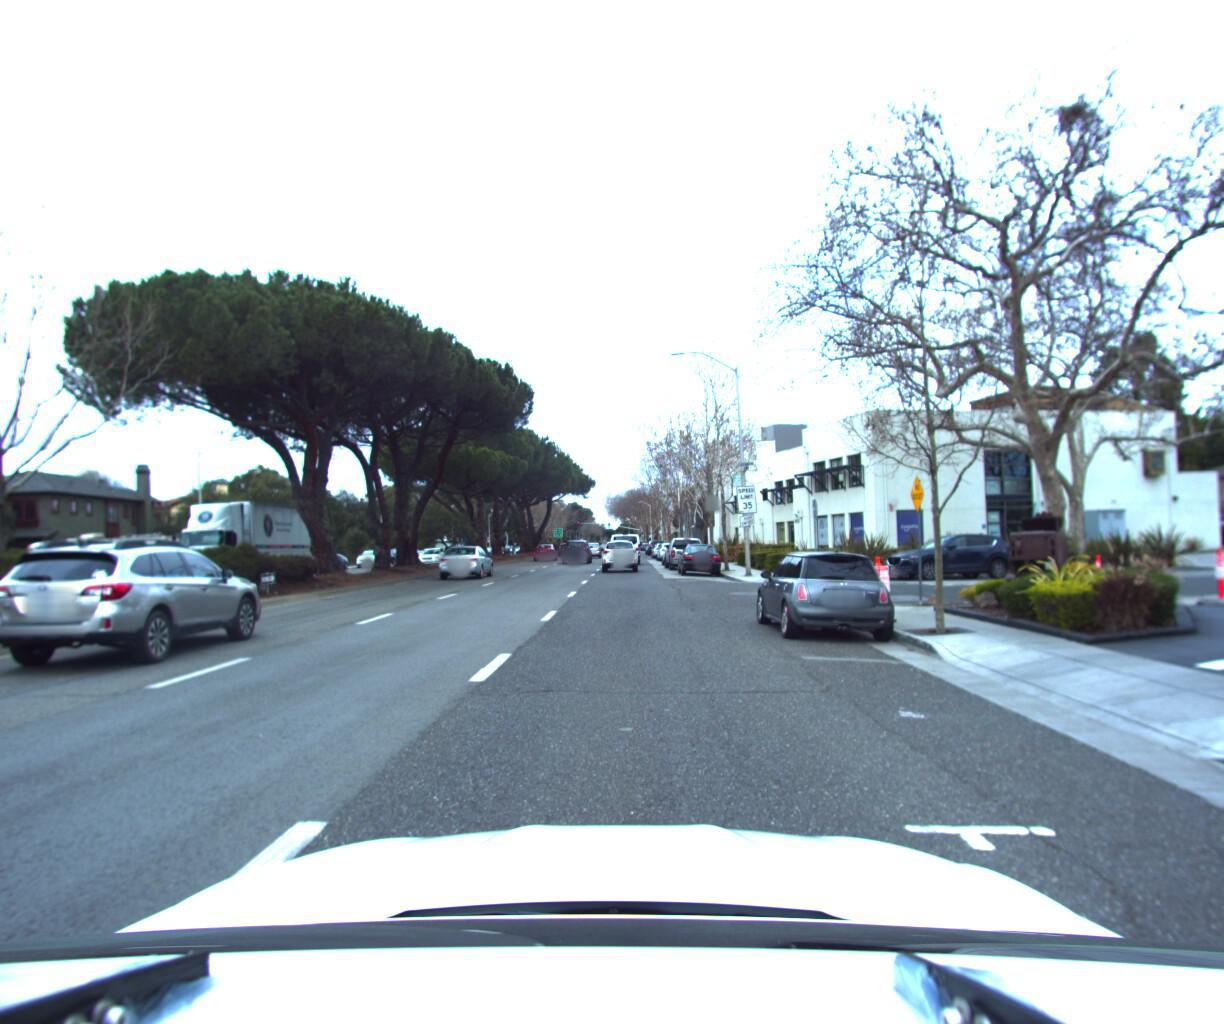car: (742, 545, 899, 650), (871, 528, 1012, 583), (435, 544, 497, 582), (661, 534, 708, 573), (674, 540, 722, 577), (599, 536, 640, 573), (611, 533, 642, 568), (560, 537, 592, 563), (413, 547, 450, 568), (356, 550, 392, 569), (530, 542, 558, 563), (582, 543, 601, 560)
other_vehicle: (15, 531, 180, 603), (132, 531, 239, 591)
truck: (166, 499, 330, 599)
